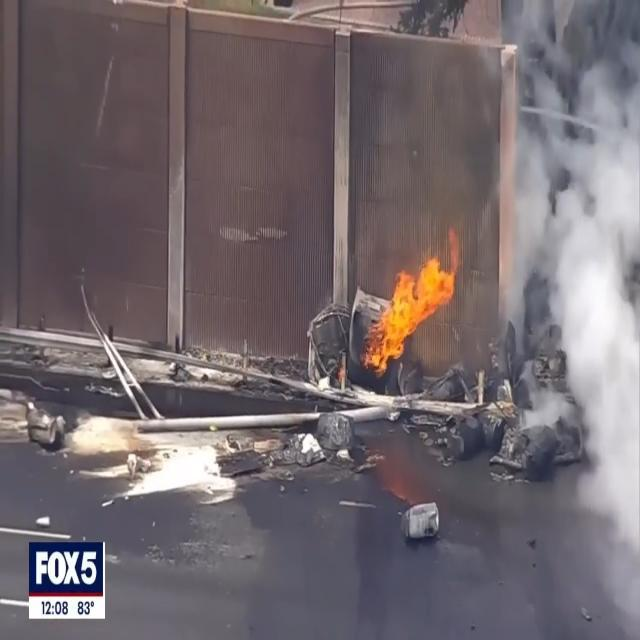fire: (363, 222, 462, 377)
